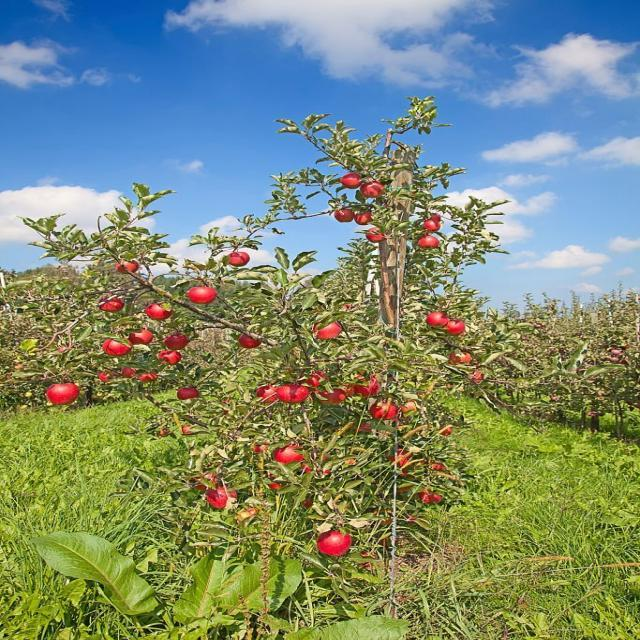Red Apple: (322, 533, 350, 555), (50, 385, 80, 403), (104, 338, 130, 356), (209, 489, 235, 507), (277, 448, 304, 465), (356, 381, 381, 398), (191, 287, 216, 303), (318, 323, 343, 339), (284, 387, 309, 403), (149, 305, 174, 320), (239, 334, 263, 349), (375, 404, 397, 420), (363, 182, 386, 197), (323, 389, 346, 404), (307, 373, 328, 389), (132, 331, 154, 346), (229, 253, 250, 268), (259, 388, 280, 403), (343, 173, 363, 188), (103, 299, 126, 312), (167, 335, 187, 348), (429, 313, 449, 326), (198, 475, 218, 488), (356, 211, 372, 226), (337, 210, 355, 223), (368, 230, 386, 243), (449, 320, 467, 333), (162, 352, 179, 365), (421, 236, 439, 248), (119, 261, 138, 272), (180, 389, 199, 400), (423, 494, 443, 504), (404, 399, 417, 413), (396, 452, 412, 463), (270, 478, 282, 492), (456, 354, 472, 364), (426, 222, 441, 232), (301, 463, 313, 475), (345, 383, 356, 396), (122, 368, 135, 378), (143, 373, 158, 381), (473, 372, 484, 382), (435, 461, 445, 472), (359, 424, 371, 433), (443, 428, 454, 436), (102, 373, 113, 381), (323, 468, 332, 477), (432, 216, 443, 223), (256, 446, 267, 453), (184, 427, 194, 434), (304, 501, 315, 507)
